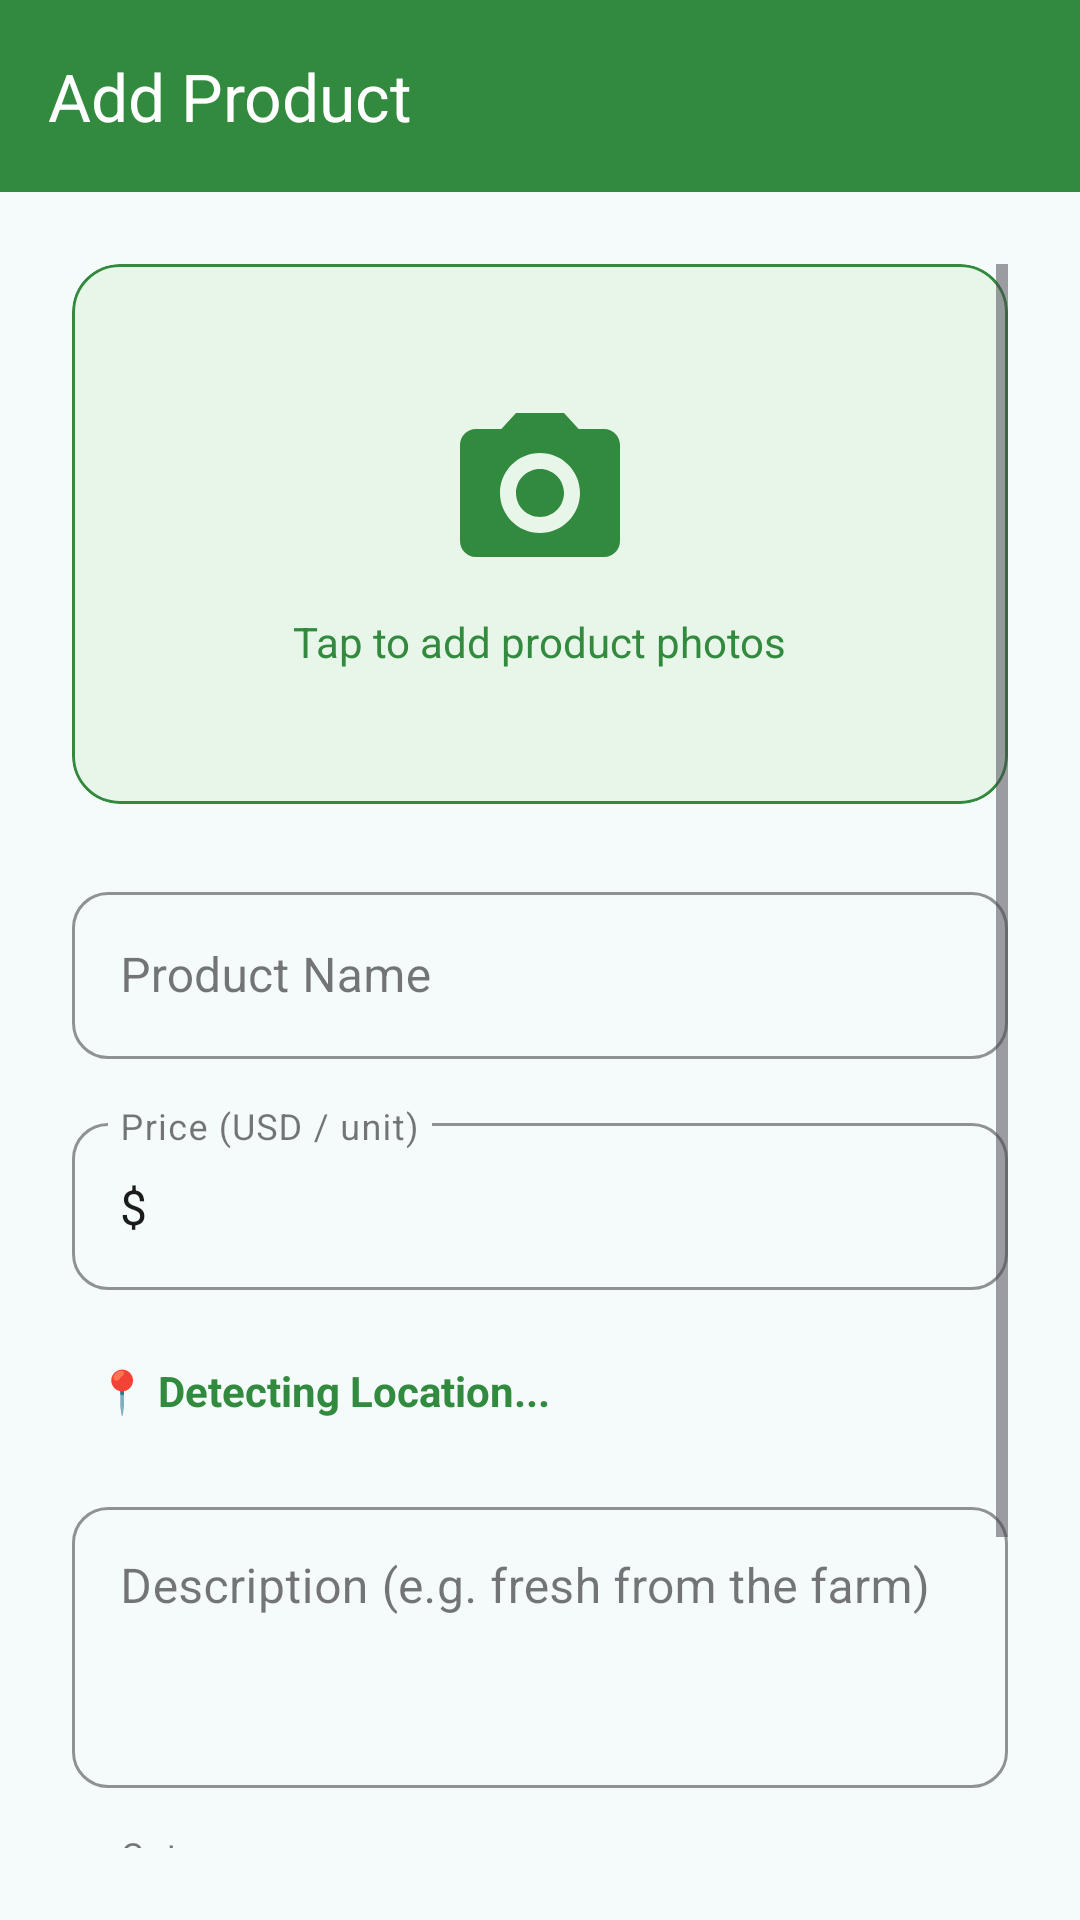

Screen size 1080 x 1920. Icon name, then its center in pixels as (x=x, y=y):
camera: (x=540, y=485)
